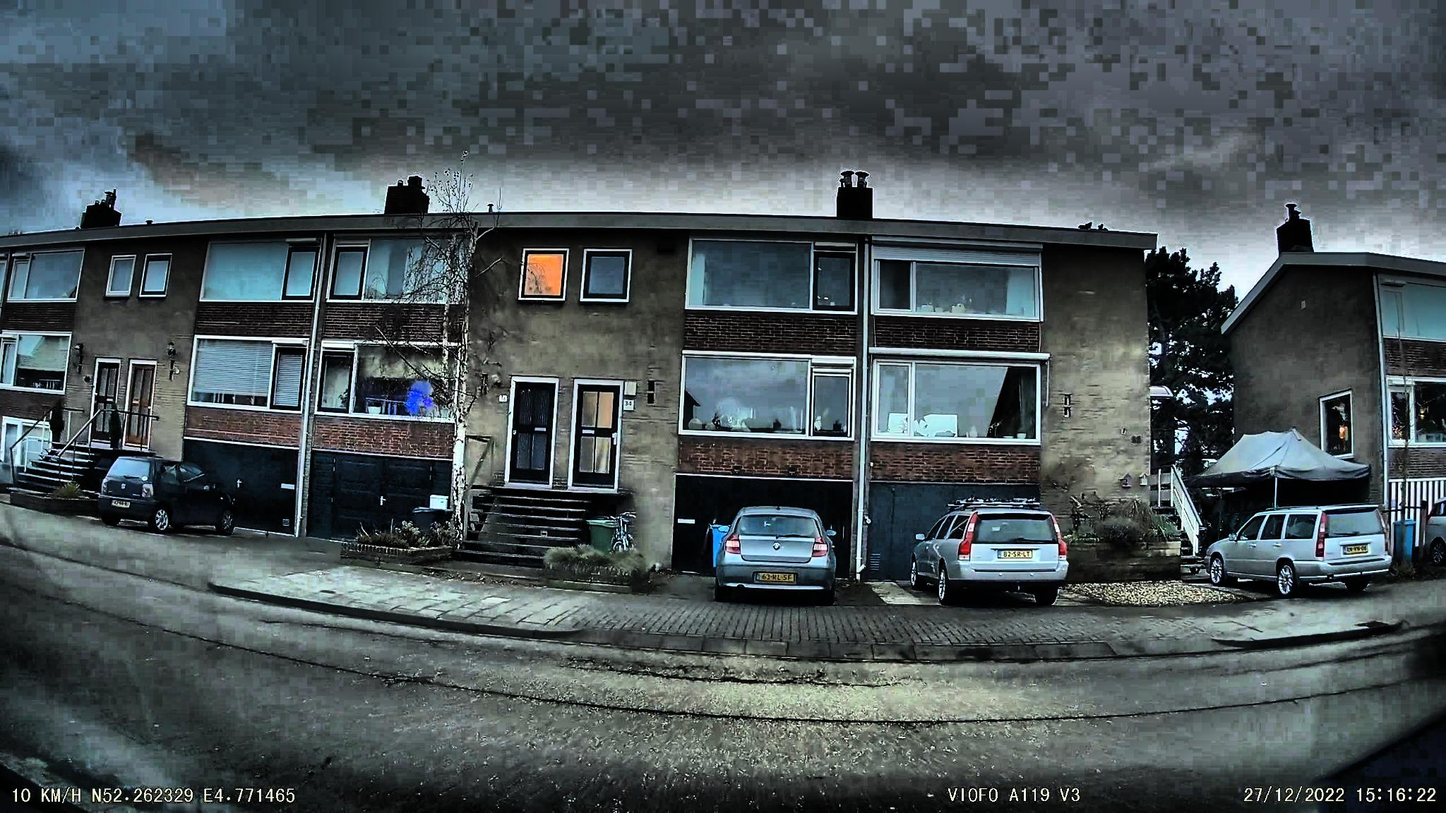Roads: (0, 550, 1446, 813)
